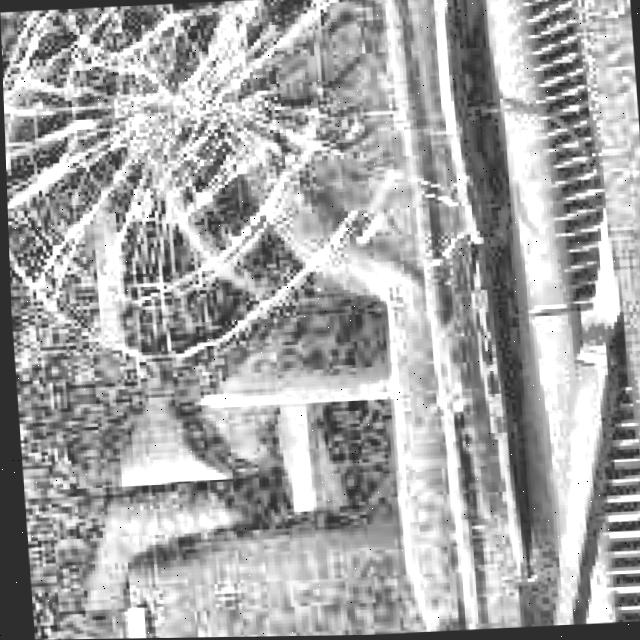glass_shatter: (61, 1, 287, 240)
